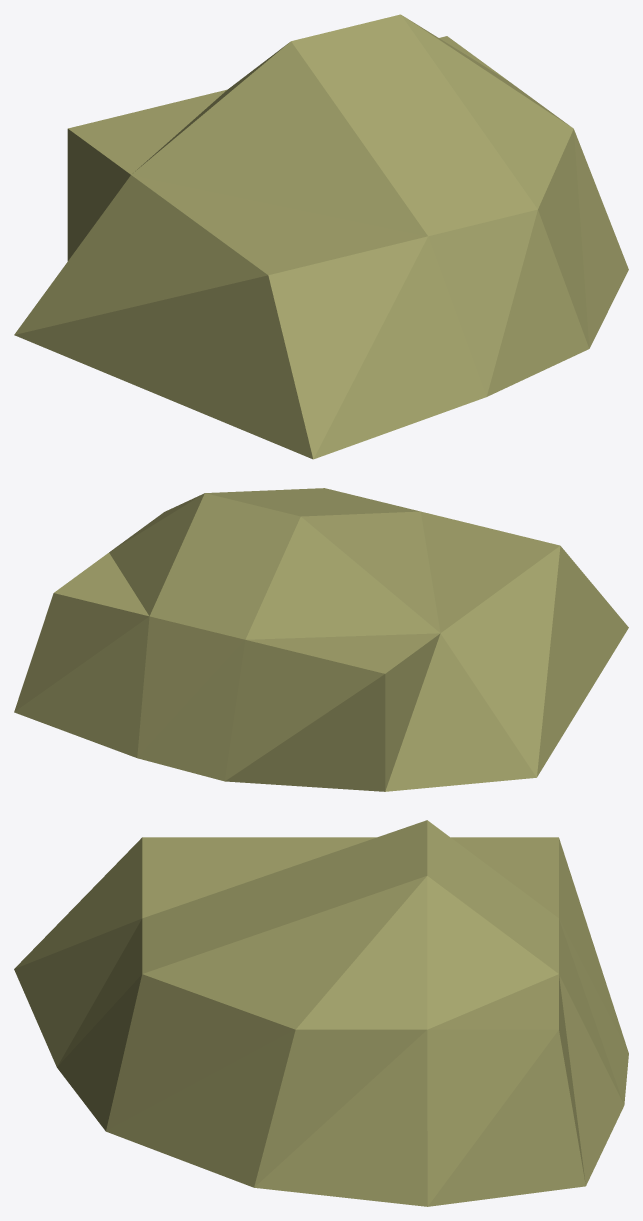
The model's file is sand.fbx.
3 renders of one model, top to bottom at view 1: azimuth 30°, elevation 25°; view 2: azimuth 150°, elevation 25°; view 3: azimuth 270°, elevation 25°, orthographic. The views are drawn at different scales.
Parts seen in each view (by area): view 1: Cube; view 2: Cube; view 3: Cube.
Boxes of the visible parts, left/top/right/bottom form: Cube: left=14, top=14, right=628, bottom=459; Cube: left=14, top=488, right=628, bottom=791; Cube: left=14, top=820, right=628, bottom=1206.
Size of the model in its own units: 516 by 200 by 467.
